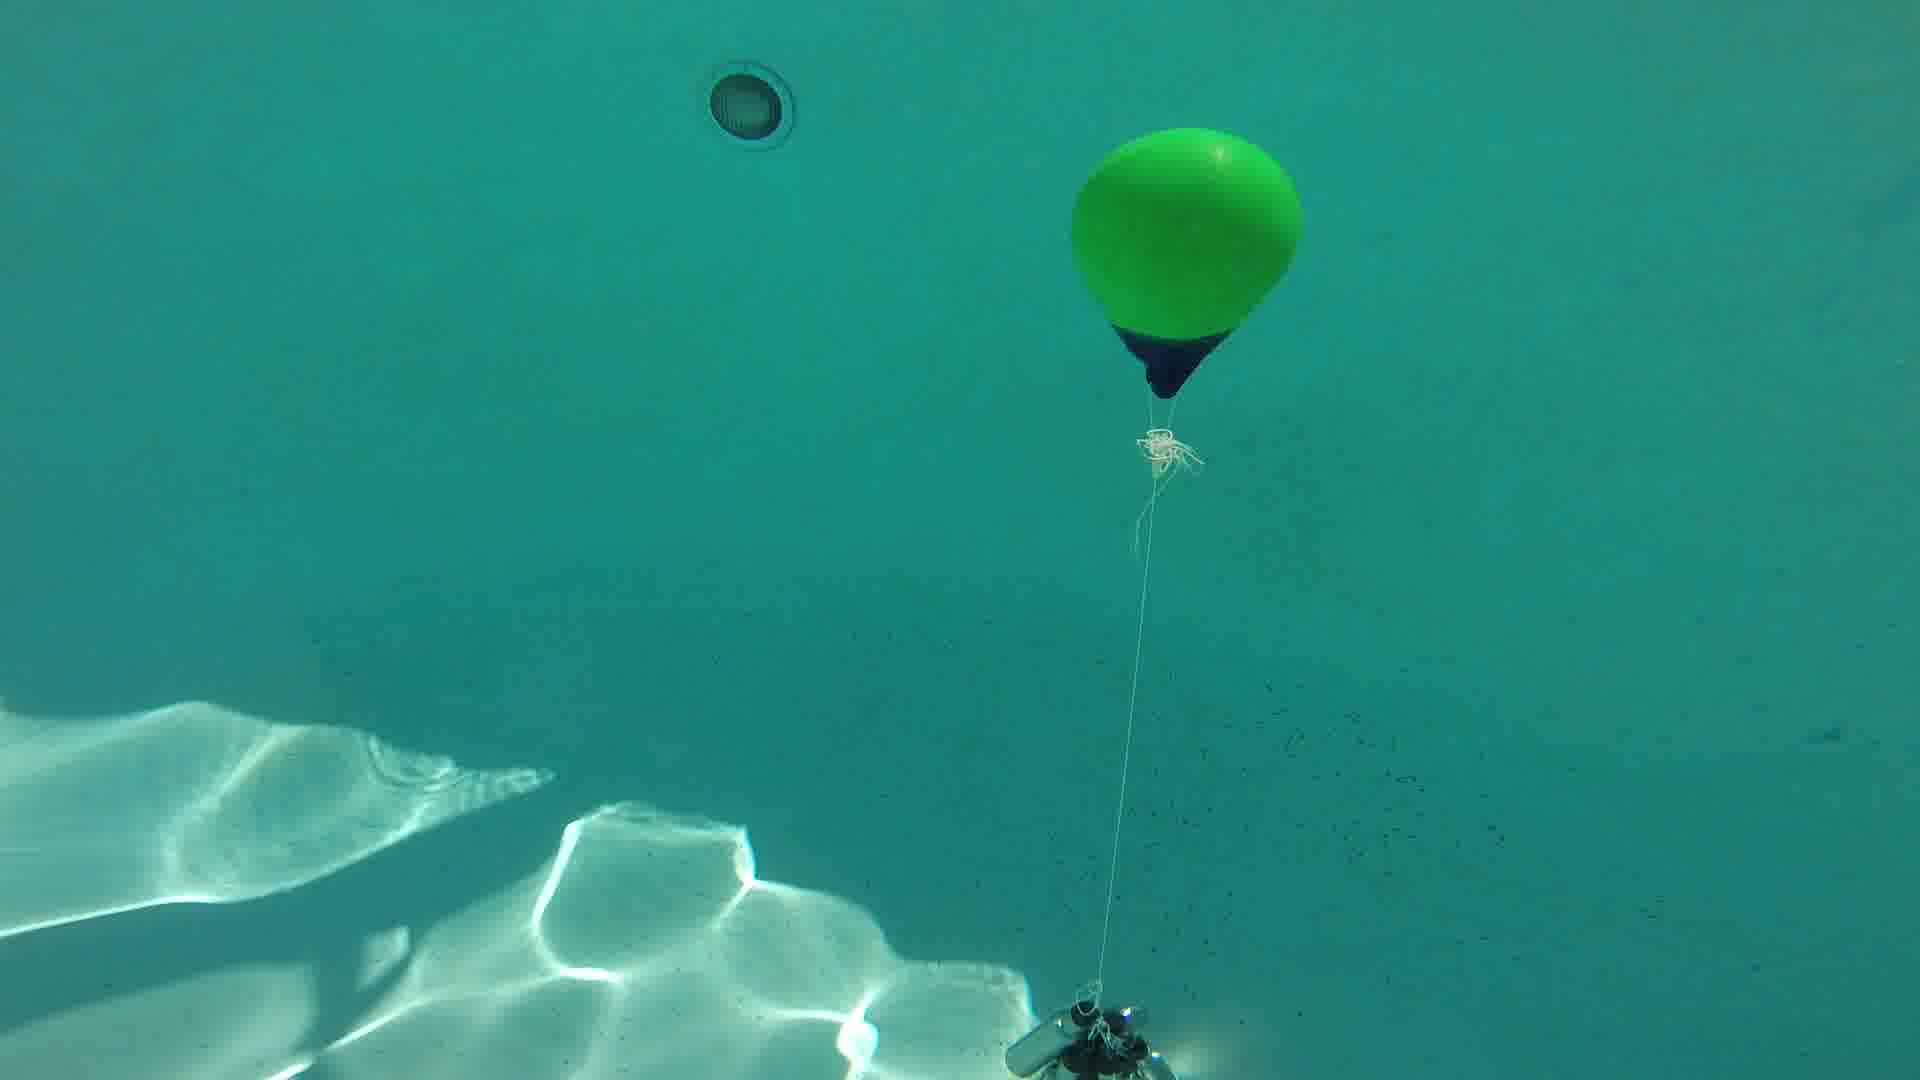yellow_buoy: (1069, 124, 1305, 402)
